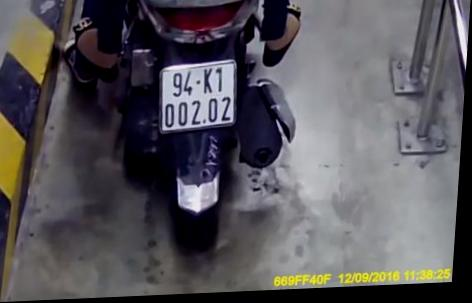License_Plate: (147, 58, 245, 136)
